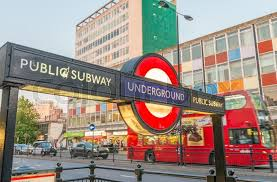London Underground: (122, 54, 189, 136)
